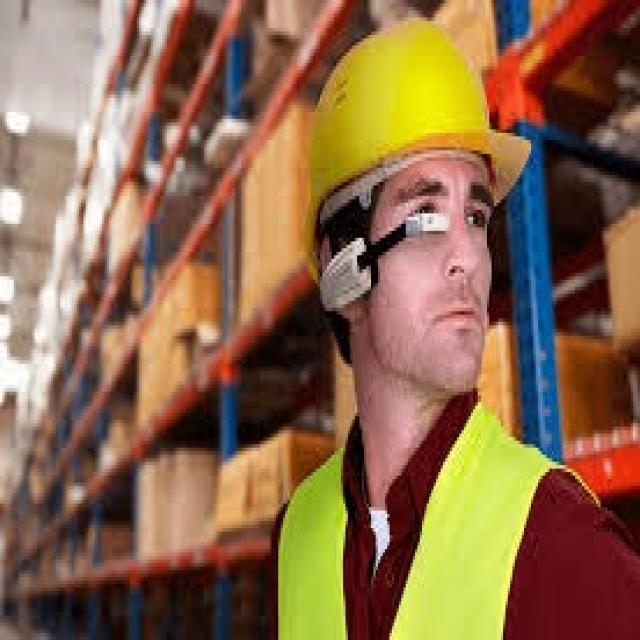safety_helmet: (265, 389, 604, 640)
